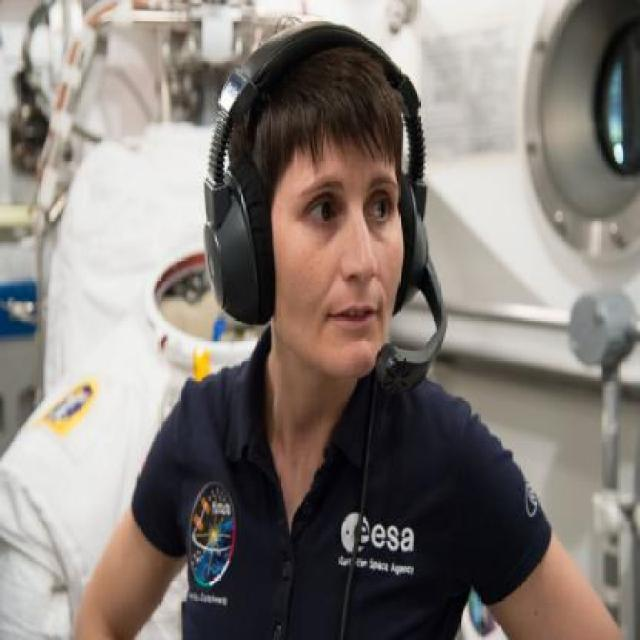earphone: (194, 2, 444, 312)
